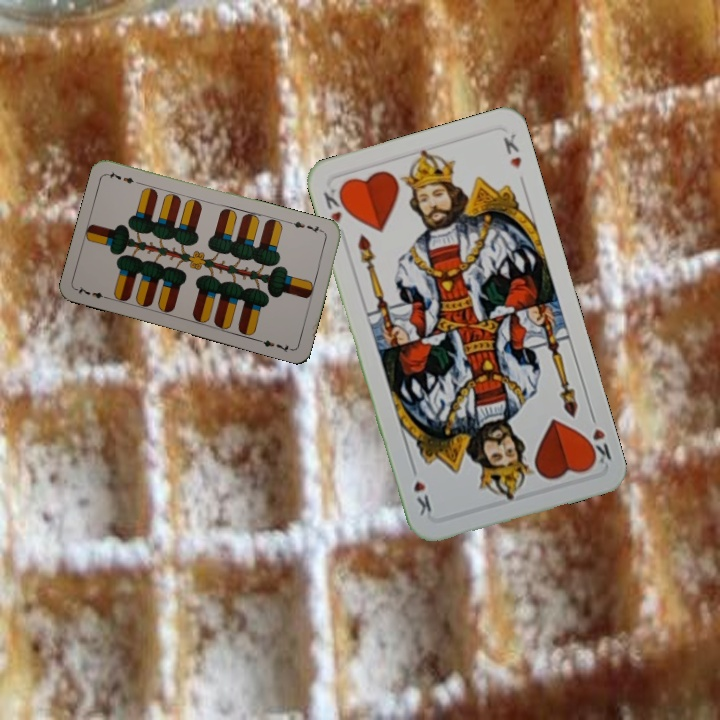E7: (73, 282, 113, 302), (287, 217, 327, 236)
HK: (581, 424, 614, 467), (319, 182, 351, 226)
